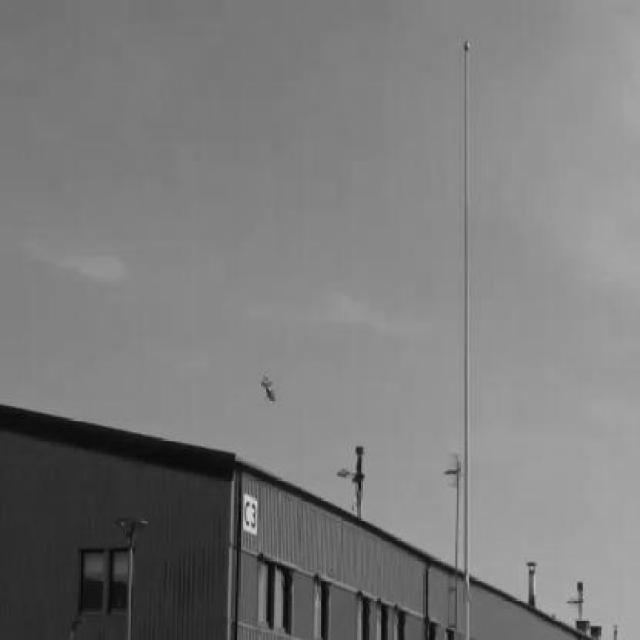helikopter: (255, 368, 282, 410)
